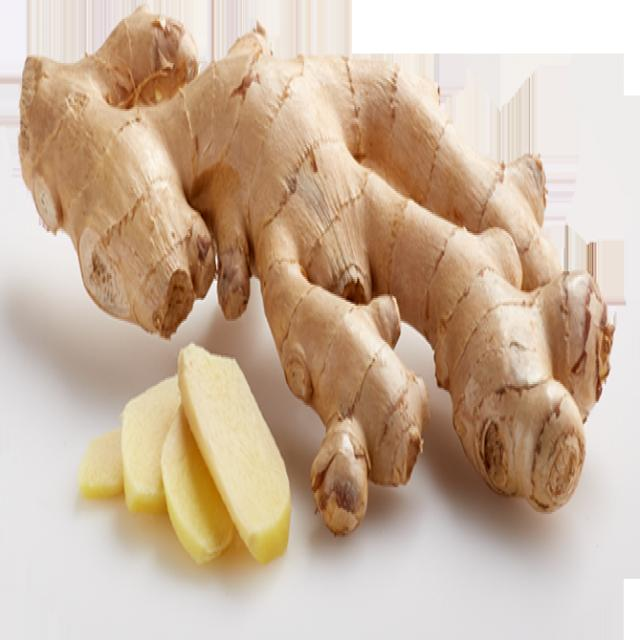ginger: (298, 34, 610, 535), (15, 0, 294, 354)
